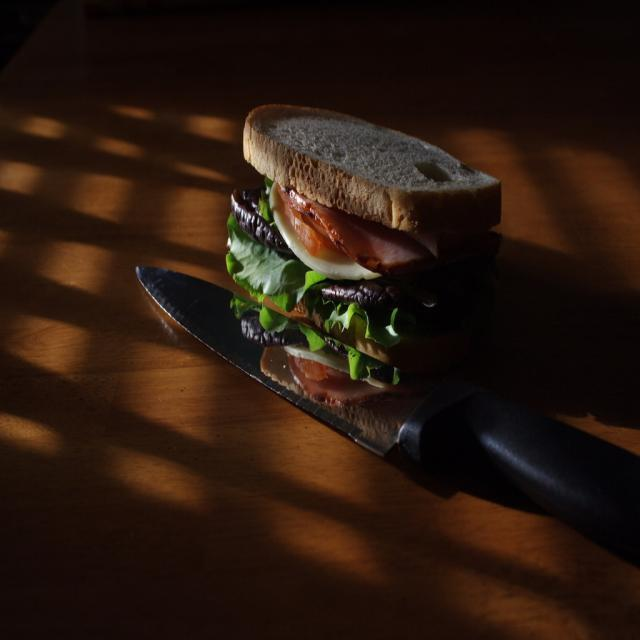Hamburger: (222, 104, 502, 362)
